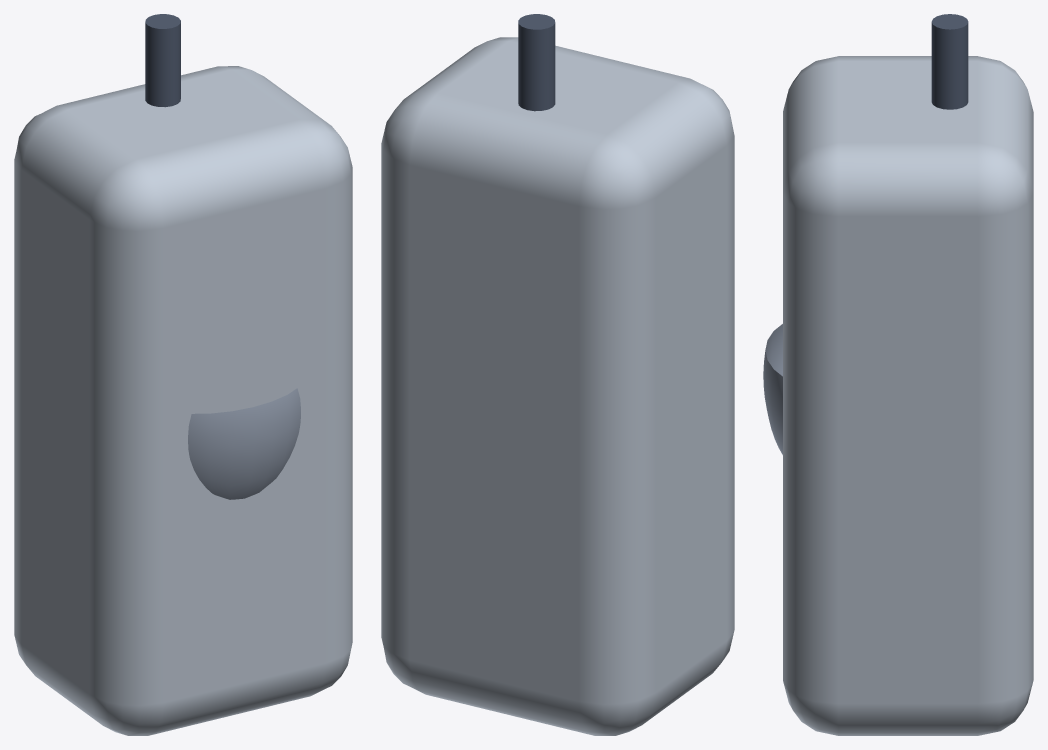
Rendered from urinal-lite.glb.
The picture shows the model from 3 angles, left to right: view 1: azimuth 30°, elevation 25°; view 2: azimuth 150°, elevation 25°; view 3: azimuth 270°, elevation 25°; orthographic projection. The views are drawn at different scales.
Visible parts, largest first — view 1: urinal; view 2: urinal; view 3: urinal.
Part boxes in pixels (bbox=[...]): urinal: bbox=[14, 14, 352, 735]; urinal: bbox=[381, 14, 734, 735]; urinal: bbox=[763, 14, 1033, 735].
Size of the model in its own units: 0.2965 by 0.72 by 0.2638.
